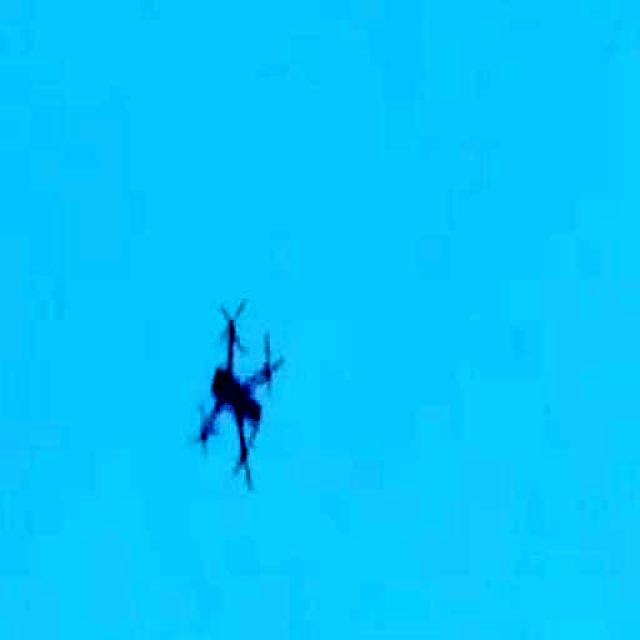bird: (174, 270, 312, 479)
